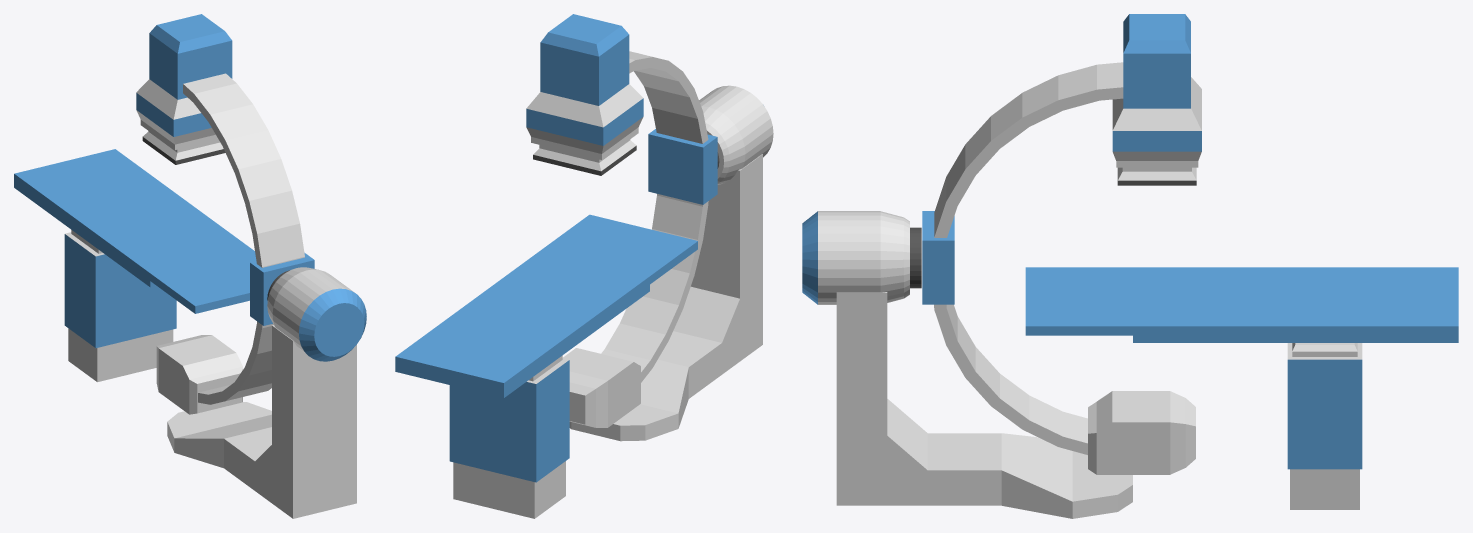
The model's file is 3dcathlab.gltf.
3 renders of one model, left to right at view 1: azimuth 30°, elevation 25°; view 2: azimuth 150°, elevation 25°; view 3: azimuth 270°, elevation 25°, orthographic. The views are drawn at different scales.
Visible parts, largest first — view 1: bedpole, overhead_base.001, Cylinder.001, Atop.001, Cylinder.002, Alow.001, joint.001; view 2: bedpole, overhead_base.001, Atop.001, Cylinder.001, Alow.001, Cylinder.002, joint.001; view 3: bedpole, overhead_base.001, Cylinder.001, Atop.001, Cylinder.002, Alow.001, joint.001.
Boxes of the visible parts, x1,y1,x2,y2 form: bedpole: [14, 149, 256, 382]; overhead_base.001: [167, 325, 356, 518]; Cylinder.001: [183, 73, 304, 404]; Atop.001: [136, 14, 232, 164]; Cylinder.002: [267, 267, 366, 361]; Alow.001: [156, 335, 242, 414]; joint.001: [250, 252, 314, 325]; bedpole: [395, 214, 697, 518]; overhead_base.001: [569, 154, 762, 441]; Atop.001: [526, 14, 643, 175]; Cylinder.001: [601, 51, 708, 382]; Alow.001: [563, 348, 640, 427]; Cylinder.002: [699, 85, 773, 184]; joint.001: [648, 129, 717, 204]; bedpole: [1025, 267, 1458, 509]; overhead_base.001: [836, 292, 1132, 518]; Cylinder.001: [934, 62, 1123, 454]; Atop.001: [1112, 14, 1201, 185]; Cylinder.002: [802, 211, 921, 304]; Alow.001: [1088, 391, 1195, 474]; joint.001: [922, 211, 954, 304].
Size of the model in its own units: 2.42 by 8.61 by 11.1.
